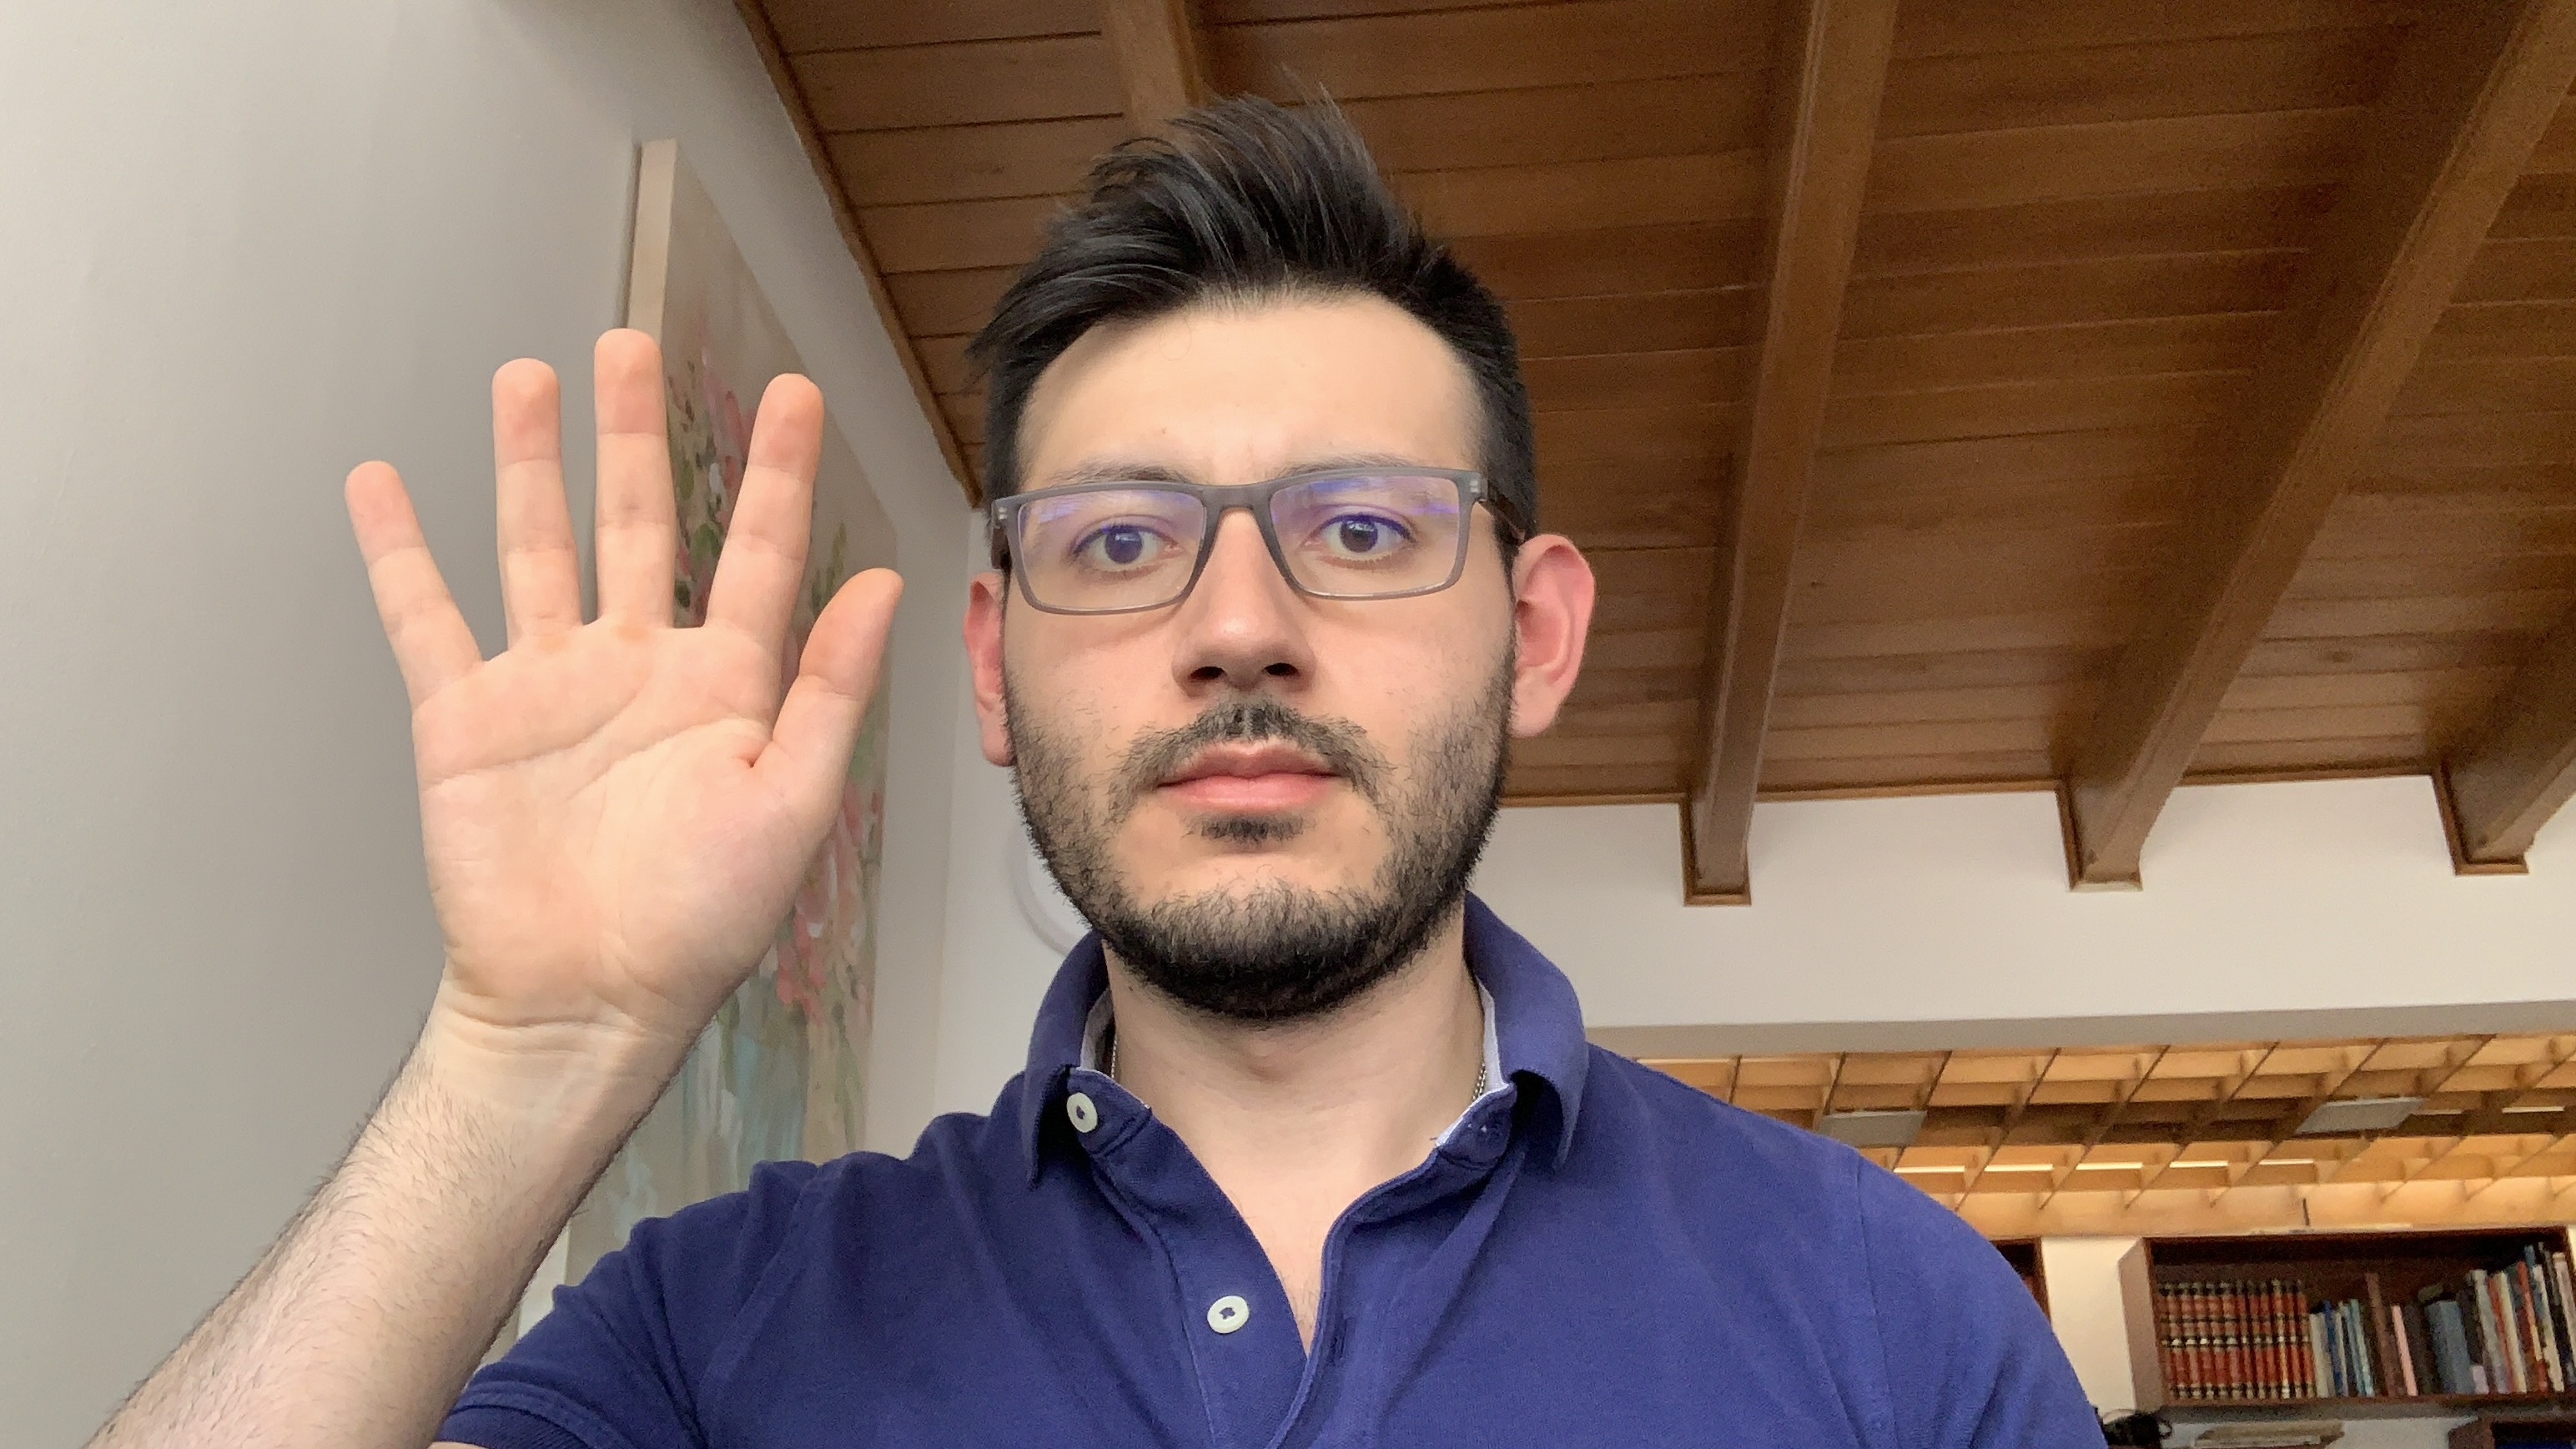Hello: (324, 313, 922, 1095)
